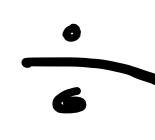div: (20, 24, 155, 114)
